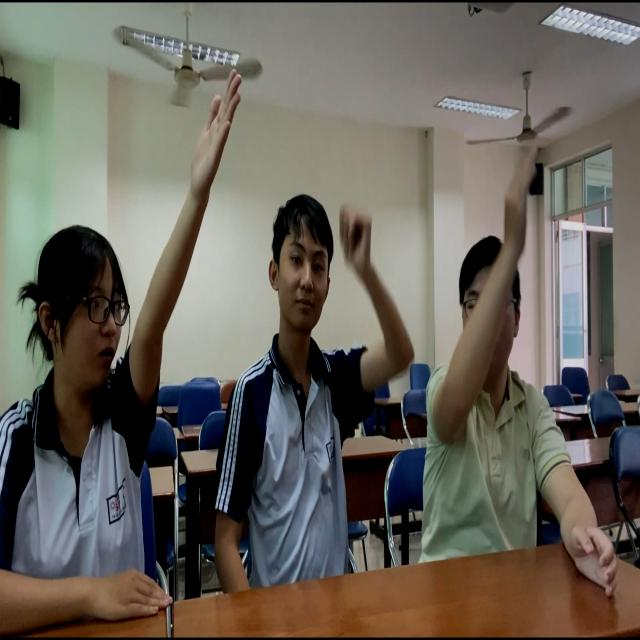raise_hand: (1, 57, 249, 640), (418, 138, 627, 602)
